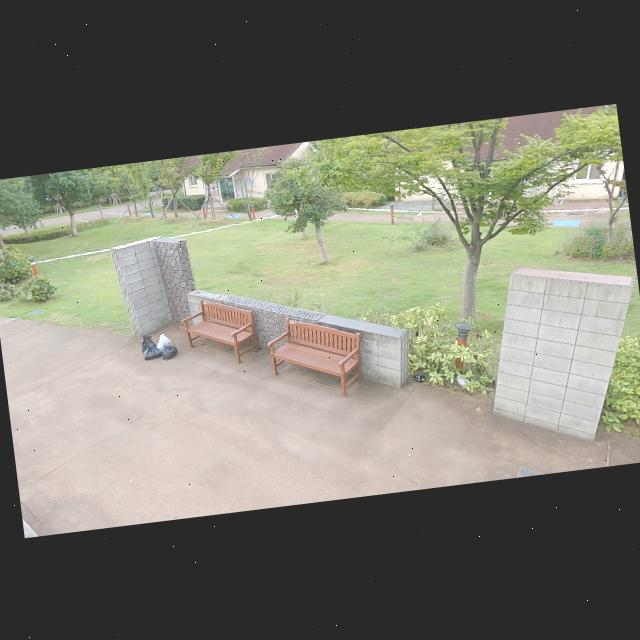trash: (154, 329, 174, 351), (158, 340, 179, 360), (139, 331, 158, 353), (141, 342, 164, 360), (454, 372, 473, 390), (412, 371, 428, 386)
